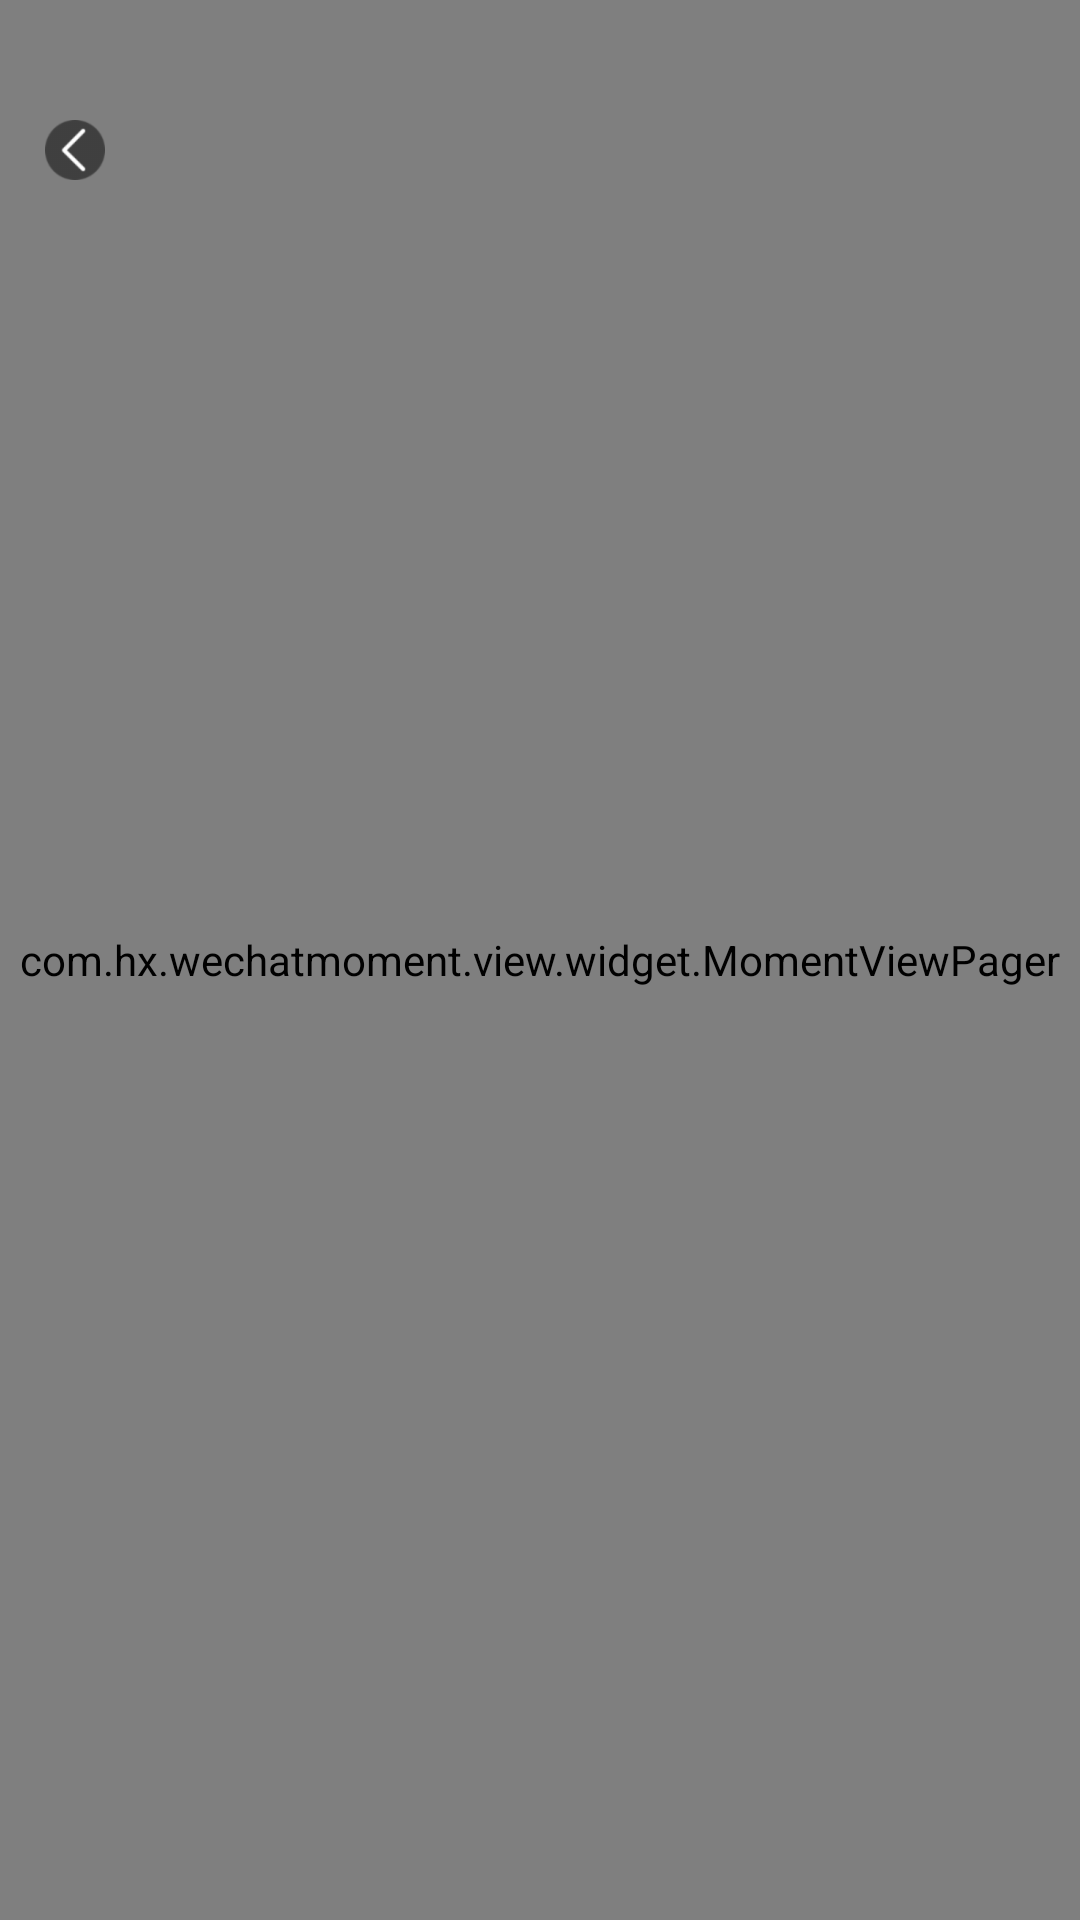

Point at icon controls on the screen. Image size 1080×1920, points as (x=x, y=y).
return back: (x=75, y=150)
